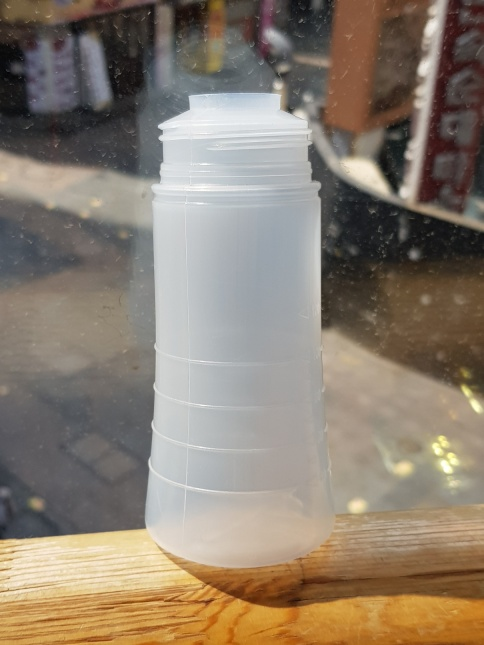Plastic: (142, 86, 336, 571)
